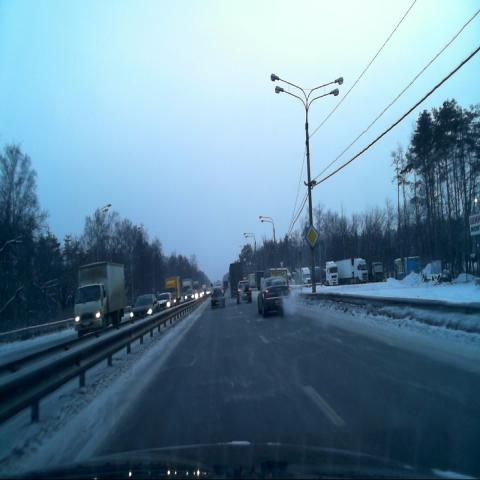2_1: (305, 223, 319, 248)
